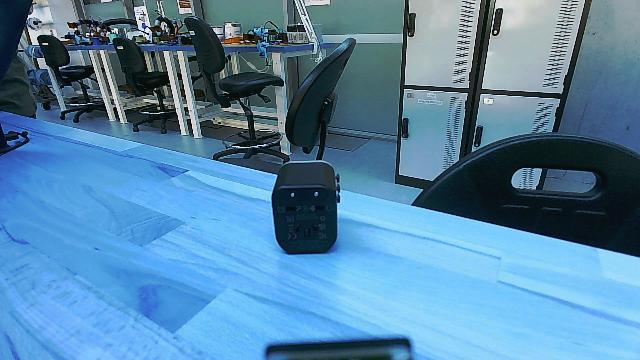adapter: (269, 152, 343, 258)
